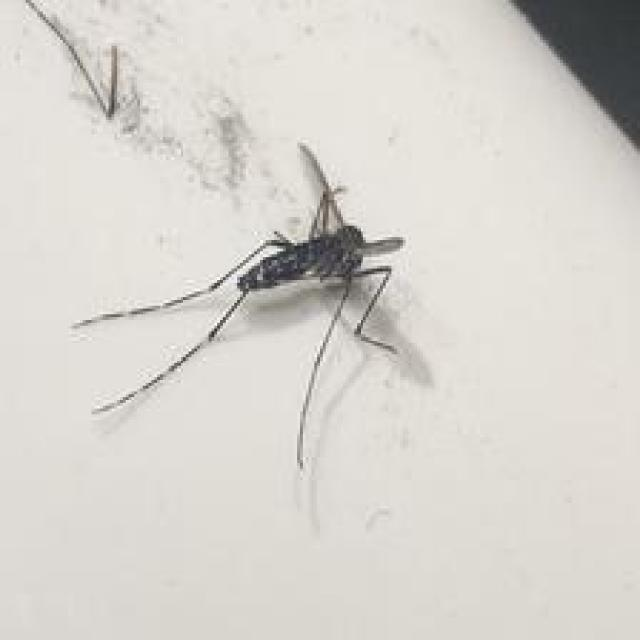Aedes albopictus: (70, 138, 410, 473)
